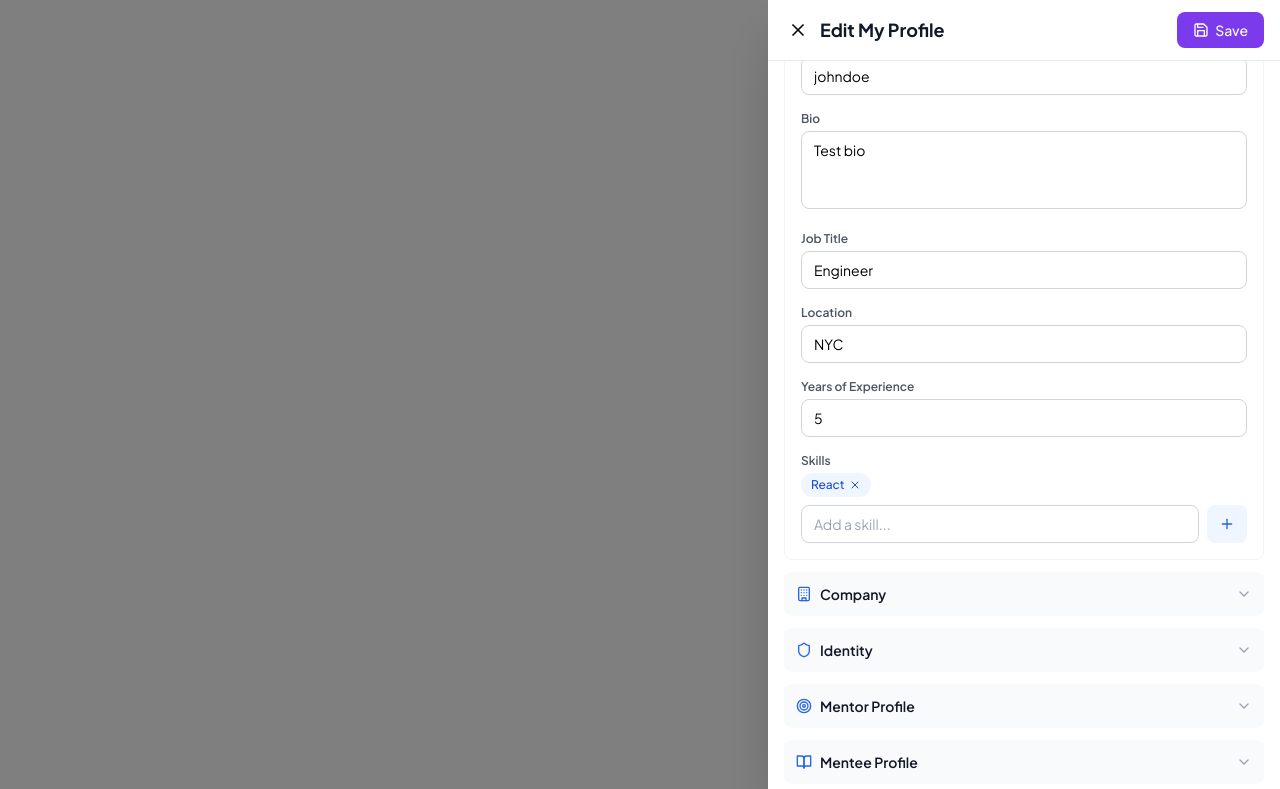
Scenario: EditProfilePanel › shows company confirmation modal when company is changed
(page scrolled)
Expected: the heading "Edit My Profile" is shown, 820,16 -> 944,44
# Expand company section
Click the button "Company" at (853, 594), box 784,572 -> 1264,616
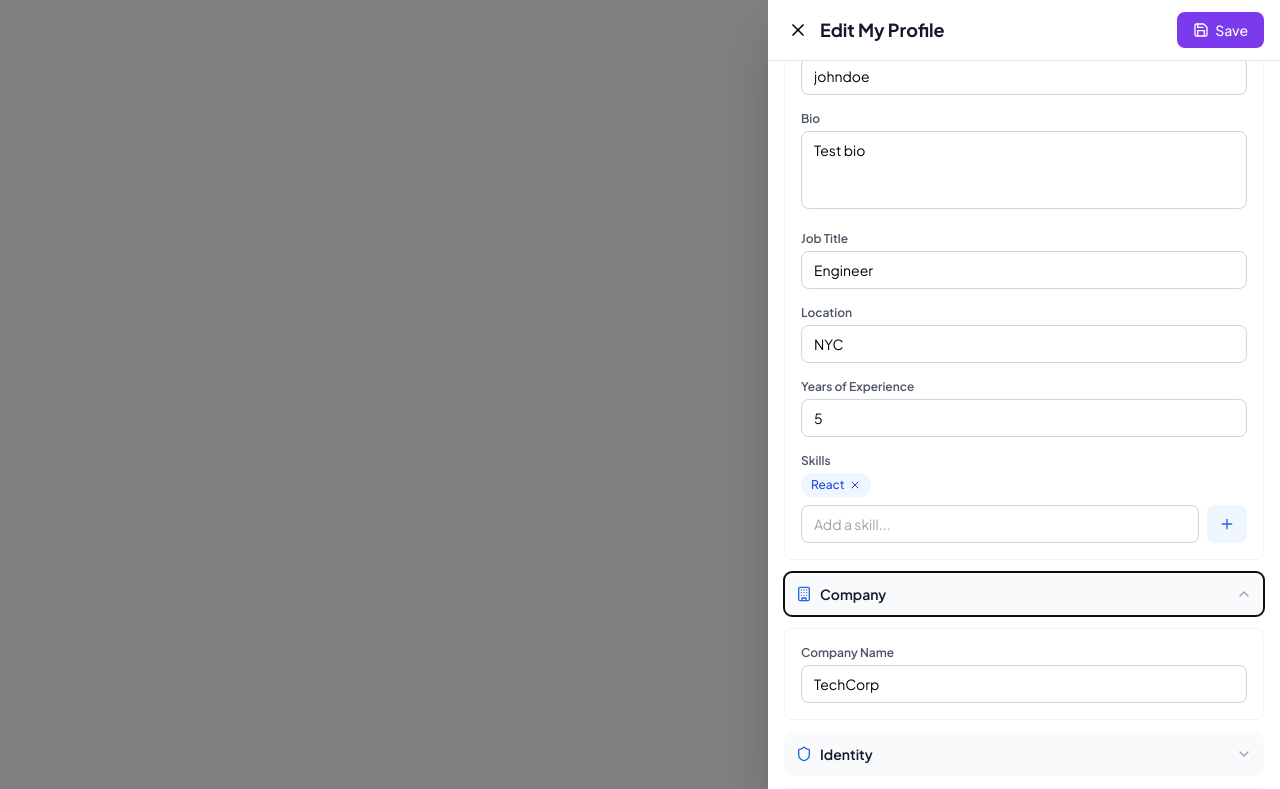
Now the field showing "TechCorp" below "Company Name" is shown
Replace the text in the field showing "TechCorp" below "Company Name" with "NewCorp" at (1024, 684), box 801,665 -> 1247,703
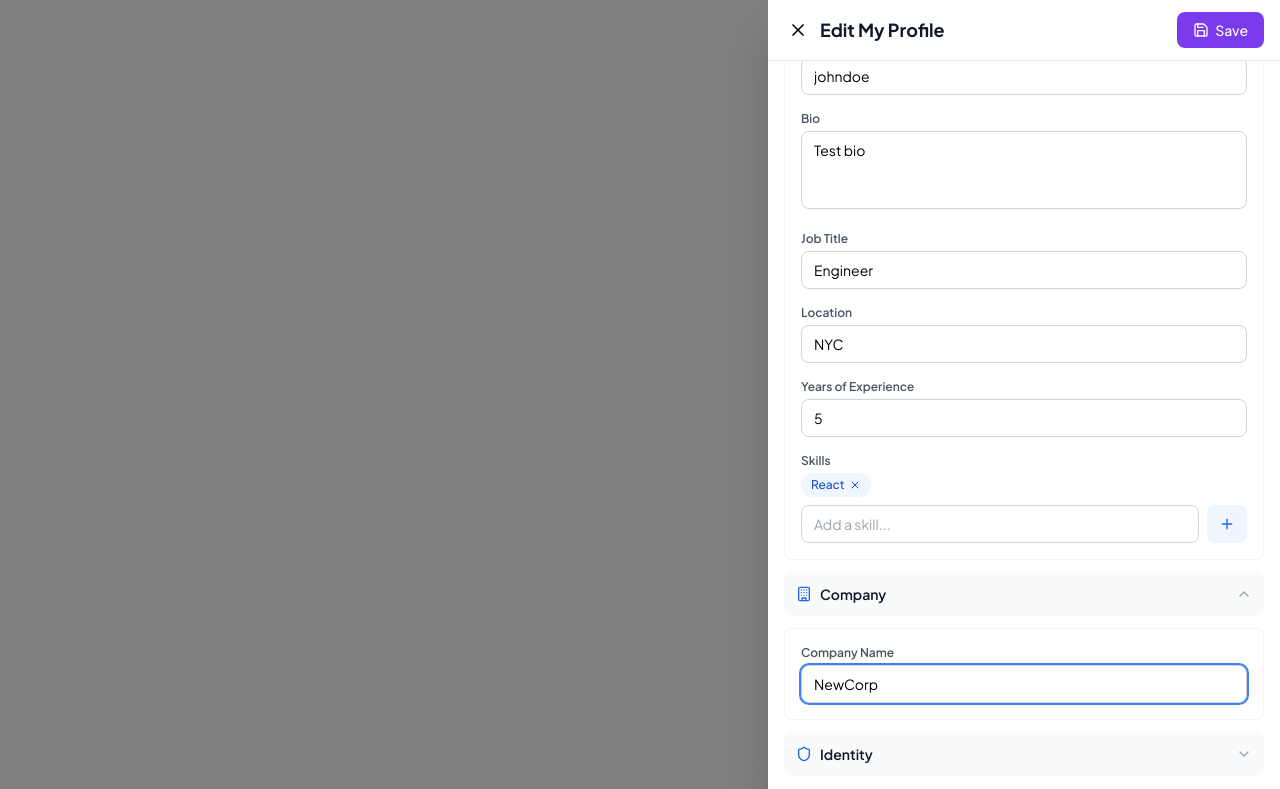
Click the button "Save" at (1221, 30), box 1177,12 -> 1264,48
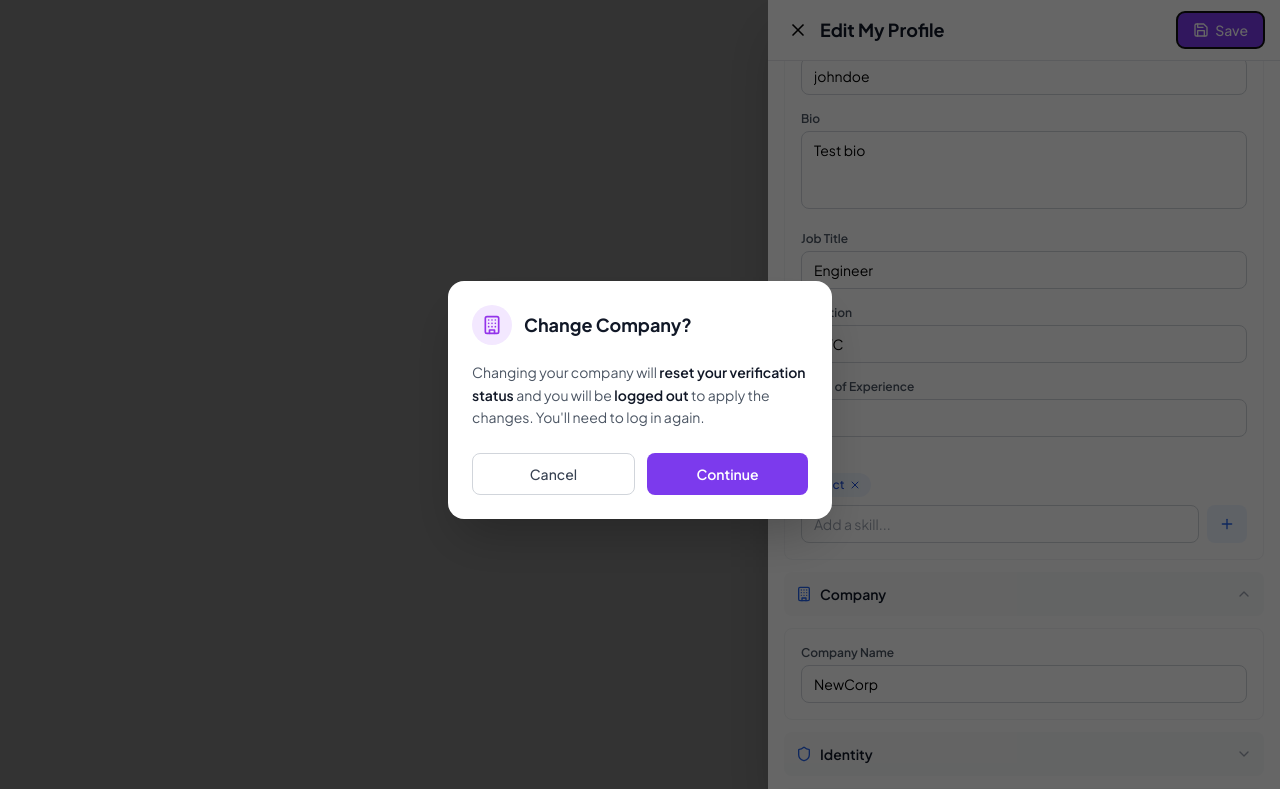
Now the heading "Change Company?" is shown, box 524,311 -> 692,339
